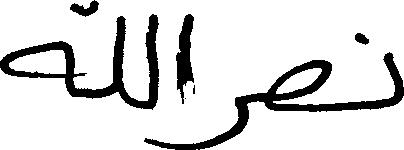X: (0, 0, 73, 101), (267, 55, 330, 116), (201, 90, 247, 149), (175, 9, 194, 149), (146, 0, 157, 149), (385, 47, 403, 111), (113, 11, 124, 105)
